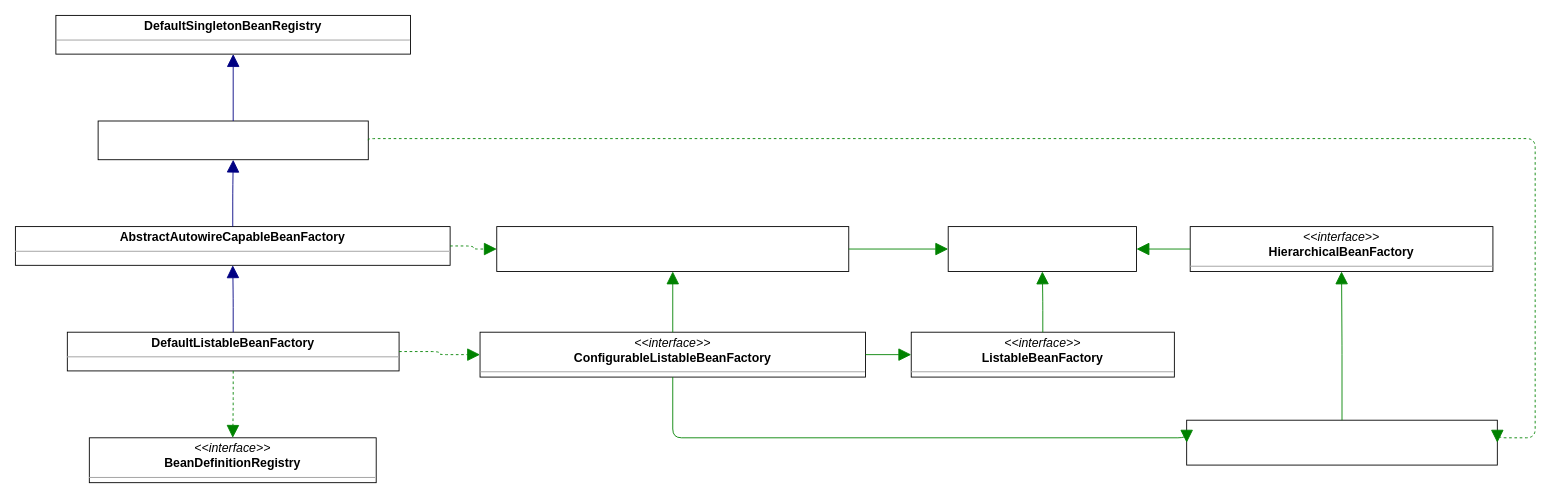
This 1563x498 diagram has some shape labels left out. The shapes that lost their labels are listed below. From the top down, each one's centre as x and y in pixels, then its label:
At point 232,140: "AbstractBeanFactory".
At point 672,248: "<<interface>> AutowireCapableBeanFactory".
At point 1042,248: "<<interface>> BeanFactory".
At point 1341,442: "<<interface>> ConfigurableBeanFactory".
